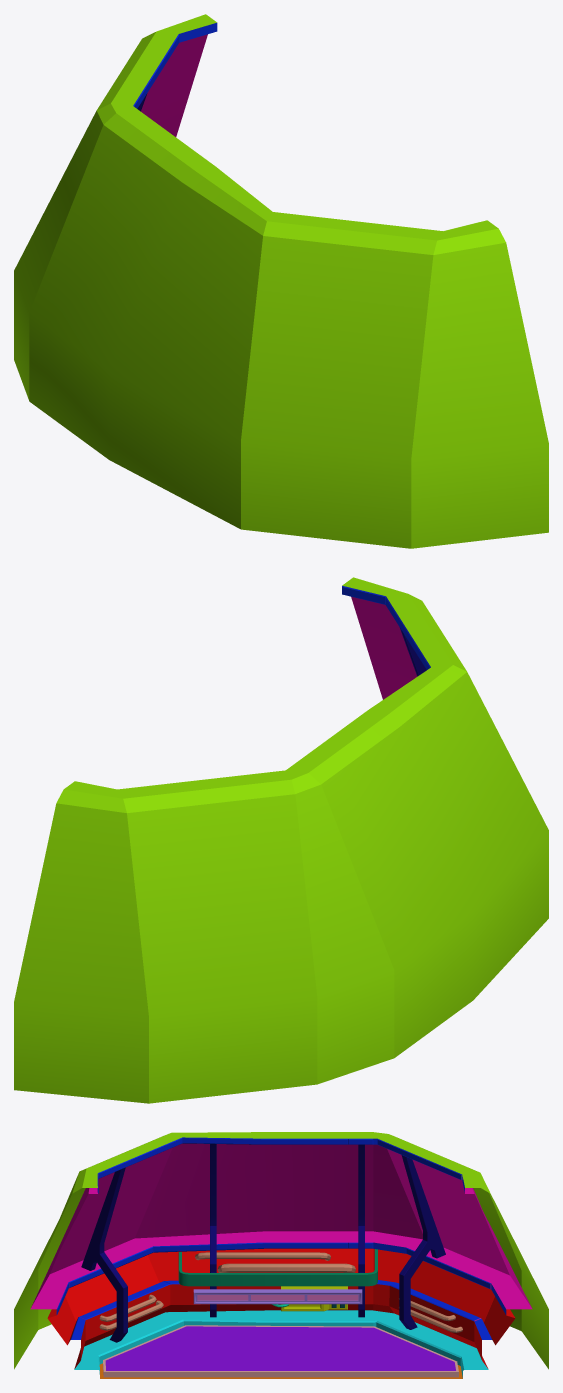
File: endpiece.fbx
3 renders of one model, top to bottom at view 1: azimuth 30°, elevation 25°; view 2: azimuth 150°, elevation 25°; view 3: azimuth 270°, elevation 25°, orthographic. The views are drawn at different scales.
Parts seen in each view (by area): view 1: Corridor_Endpiece; view 2: Corridor_Endpiece; view 3: Corridor_Endpiece.
Part boxes in pixels (<box>): Corridor_Endpiece: <box>14,14,548,548</box>; Corridor_Endpiece: <box>14,577,548,1103</box>; Corridor_Endpiece: <box>14,1132,548,1378</box>.
Bounding box in the file's own units: 300 × 315 × 800.
